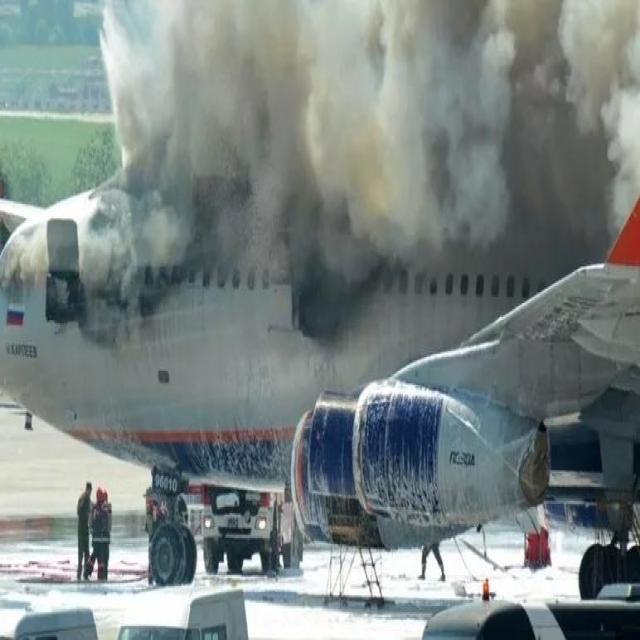Smoke: (94, 0, 640, 246)
